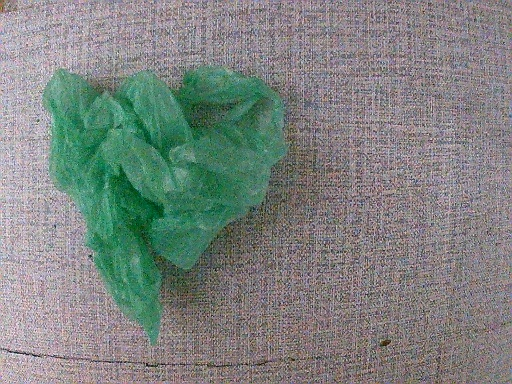plastic: (27, 66, 294, 344)
